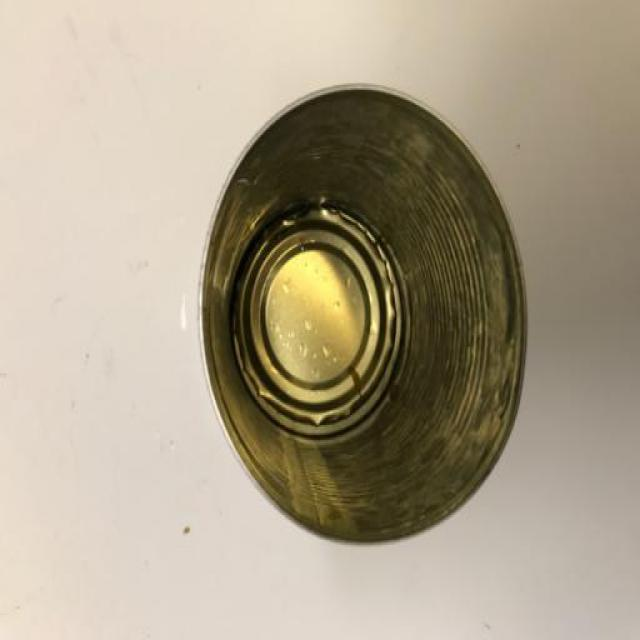metel: (189, 82, 534, 588)
